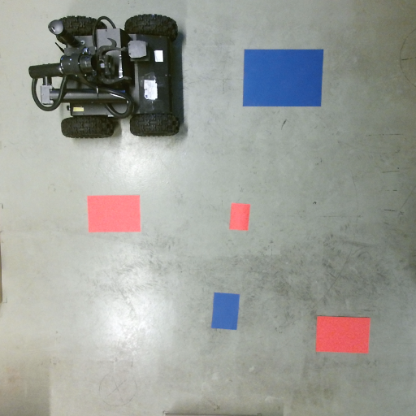Blue: (241, 48, 324, 108), (209, 292, 241, 330)
Jaguar: (25, 15, 184, 139)
Red: (314, 315, 371, 356), (85, 192, 142, 231), (227, 200, 252, 232)
